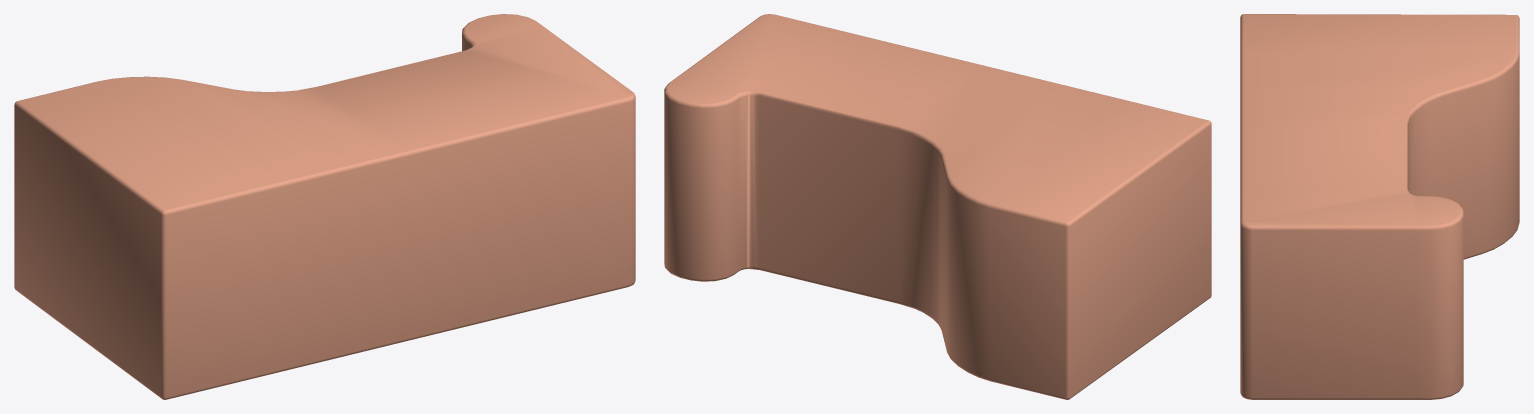
The model's file is island_lv14_3.fbx.
3 views of the same model, side by side, from view 1: azimuth 30°, elevation 25°; view 2: azimuth 150°, elevation 25°; view 3: azimuth 270°, elevation 25° (orthographic). The views are drawn at different scales.
Visible parts, largest first — view 1: island_lv14_3; view 2: island_lv14_3; view 3: island_lv14_3.
Boxes of the visible parts, box(x1,y1,x2,y2) form: island_lv14_3: box(14, 14, 635, 399); island_lv14_3: box(664, 14, 1211, 399); island_lv14_3: box(1240, 14, 1519, 399).
Size of the model in its own units: 1319 by 500 by 727.
